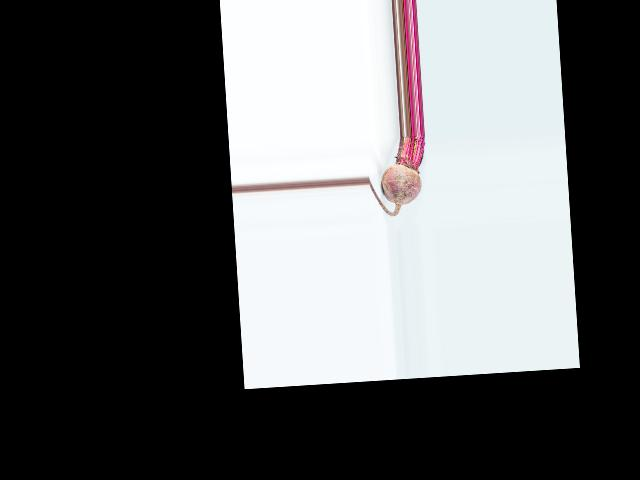beet: (366, 134, 429, 217)
